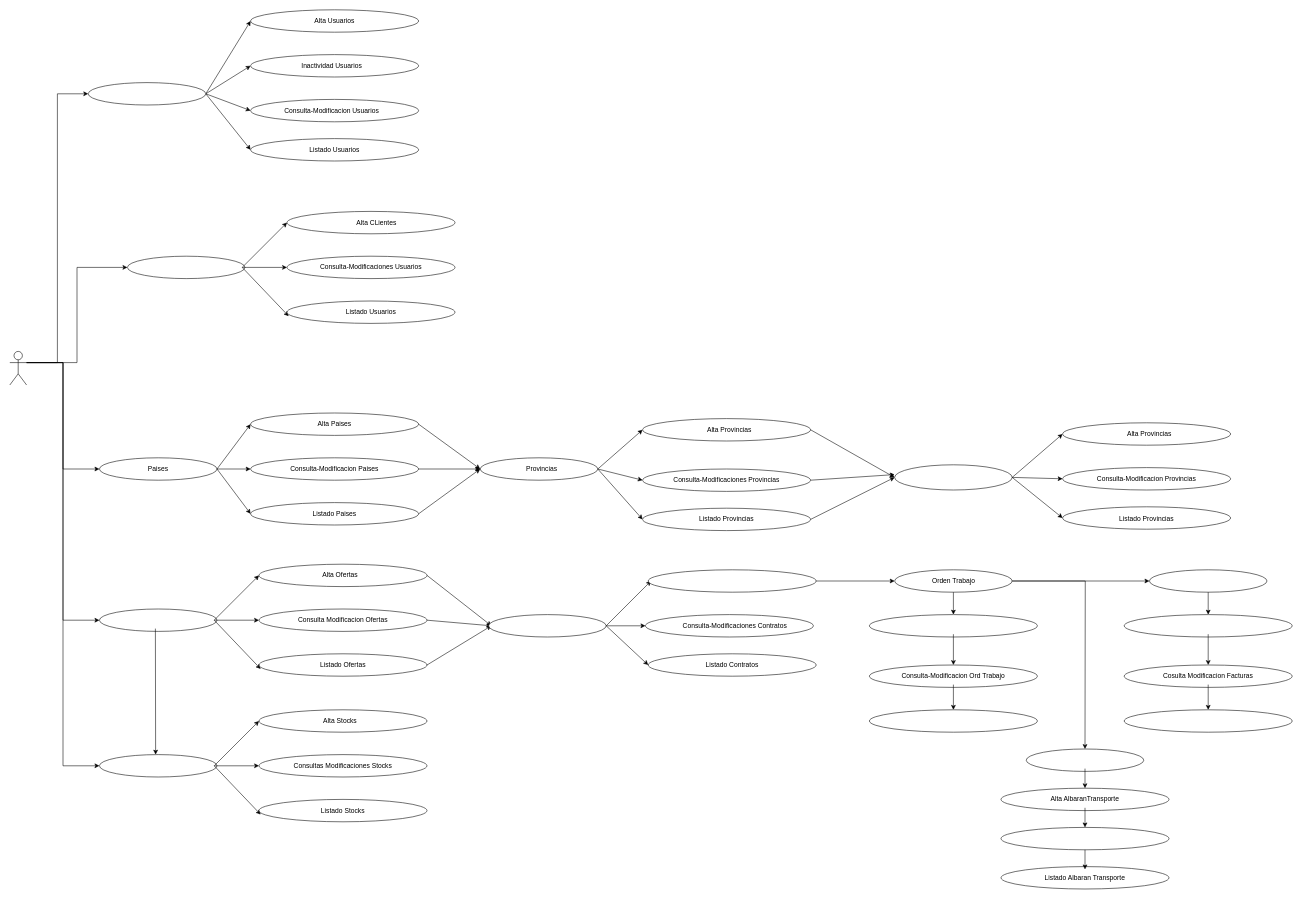
Some shapes in this 1302 by 899 pixel diagram are drawn without their labels. The centre of each missing label's shape, as x and y in pixels:
"Actor" belongs at pixel 18 368.
"Albaran Transporte" belongs at pixel 1085 759.
"Alta Contratos" belongs at pixel 732 580.
"Alta Facturas" belongs at pixel 1208 625.
"Alta OrdenTrabajo" belongs at pixel 953 625.
"Clientes" belongs at pixel 186 267.
"Contratos" belongs at pixel 547 625.
"Facturas" belongs at pixel 1208 580.
"Listado Facturas" belongs at pixel 1208 720.
"Listado Orden Trabajo" belongs at pixel 953 720.
"Modificacion Albaran Transporte" belongs at pixel 1084 838.
"Ofertas" belongs at pixel 158 619.
"Poblacion" belongs at pixel 953 477.
"Stock" belongs at pixel 158 765.
"Usuarios" belongs at pixel 147 93.
